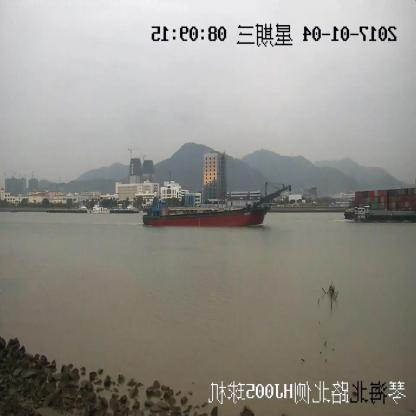Bulk Carrier: (142, 186, 290, 227)
